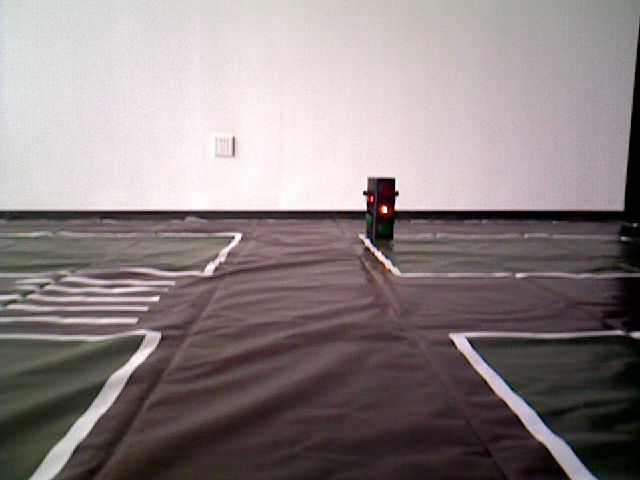yellow: (365, 176, 397, 239)
